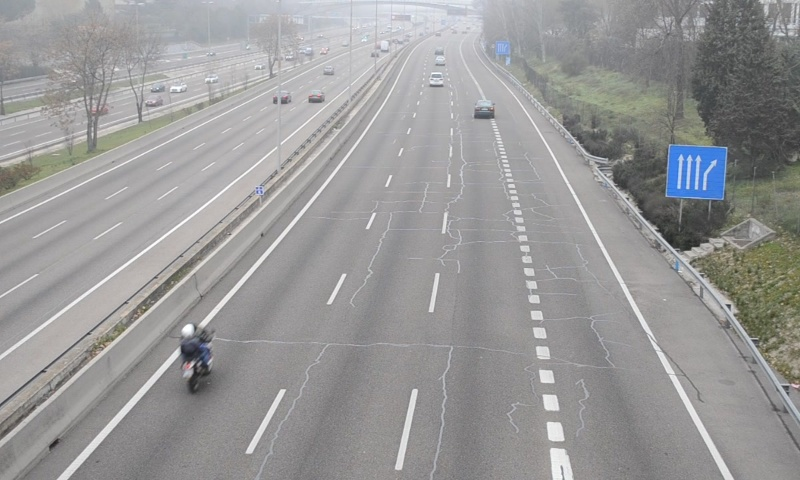car: (473, 98, 494, 118), (428, 72, 445, 88)
motorcycle: (179, 321, 216, 394)
